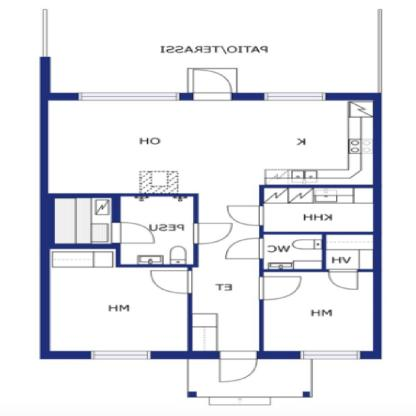door: (188, 67, 240, 101), (219, 350, 256, 382), (151, 268, 193, 294), (112, 222, 157, 246), (258, 276, 300, 300), (224, 237, 267, 260), (224, 204, 266, 227), (190, 223, 234, 244), (327, 269, 359, 292)
window: (78, 92, 180, 102), (90, 351, 150, 360), (300, 352, 361, 360), (265, 94, 325, 100)
zone: (47, 101, 374, 351), (46, 9, 379, 92), (52, 250, 185, 352), (263, 270, 371, 352), (262, 186, 373, 231), (123, 196, 194, 265), (188, 360, 310, 396), (54, 200, 114, 243), (264, 235, 321, 269), (326, 235, 374, 269)
